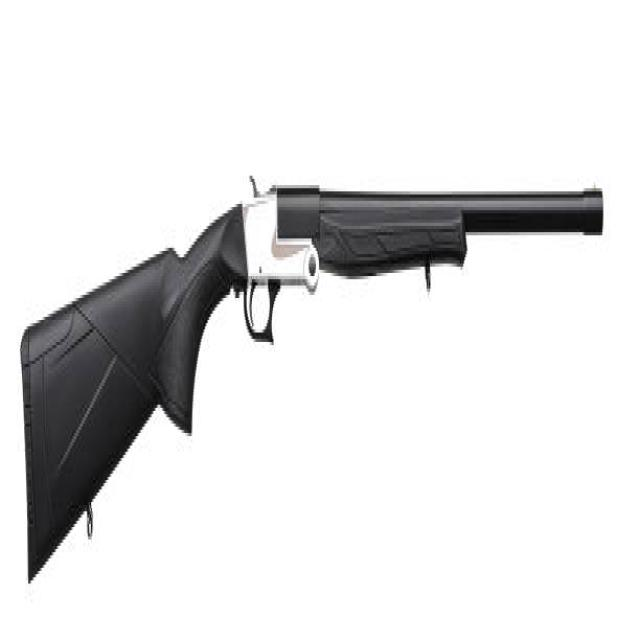rifle: (18, 144, 608, 602)
